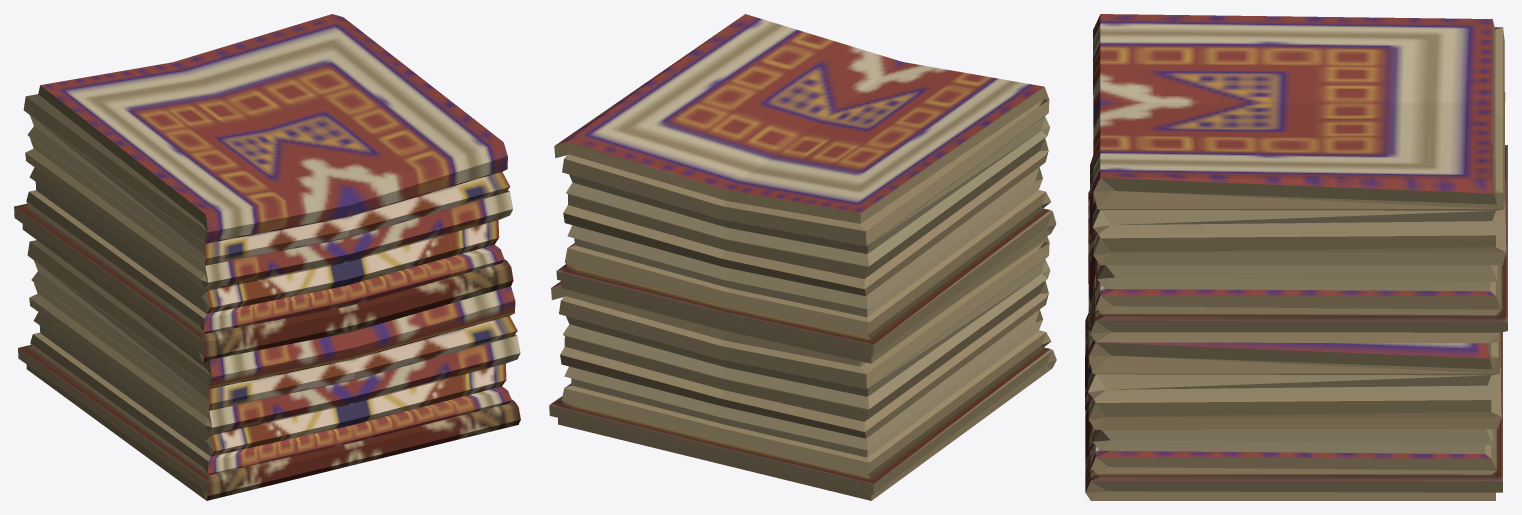
The model's file is SM_Prop_Rug_Pile_02.fbx.
3 renders of one model, left to right at view 1: azimuth 30°, elevation 25°; view 2: azimuth 150°, elevation 25°; view 3: azimuth 270°, elevation 25°, orthographic. The views are drawn at different scales.
Visible parts, largest first — view 1: SM_Prop_Rug_Pile_02; view 2: SM_Prop_Rug_Pile_02; view 3: SM_Prop_Rug_Pile_02.
Boxes of the visible parts, box(x1,y1,x2,y2) form: SM_Prop_Rug_Pile_02: box(14, 14, 520, 500); SM_Prop_Rug_Pile_02: box(549, 14, 1056, 500); SM_Prop_Rug_Pile_02: box(1085, 14, 1507, 500).
Bounding box in the file's own units: 153 × 125 × 151.
